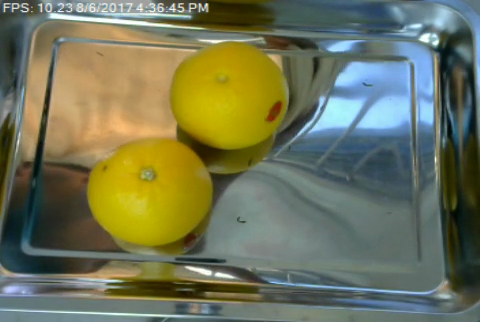Orange: (85, 138, 214, 246), (169, 43, 289, 149)
